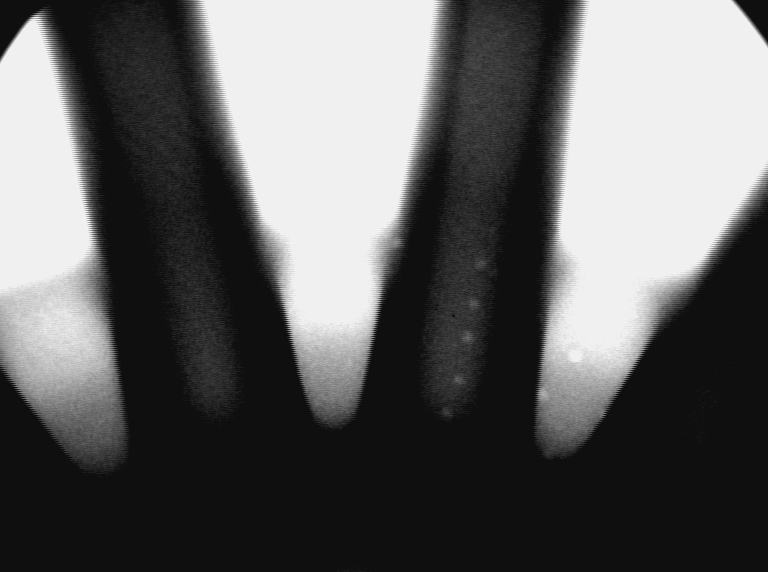defect: (389, 234, 409, 255)
